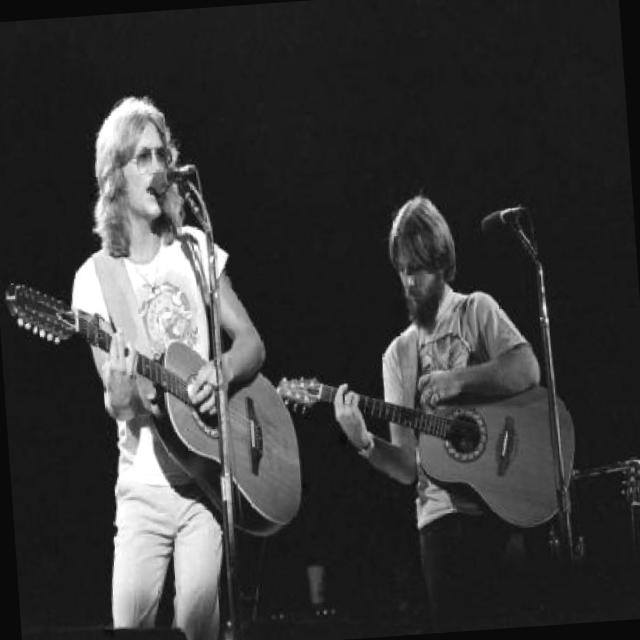Person: (22, 76, 284, 638), (318, 180, 558, 638)
